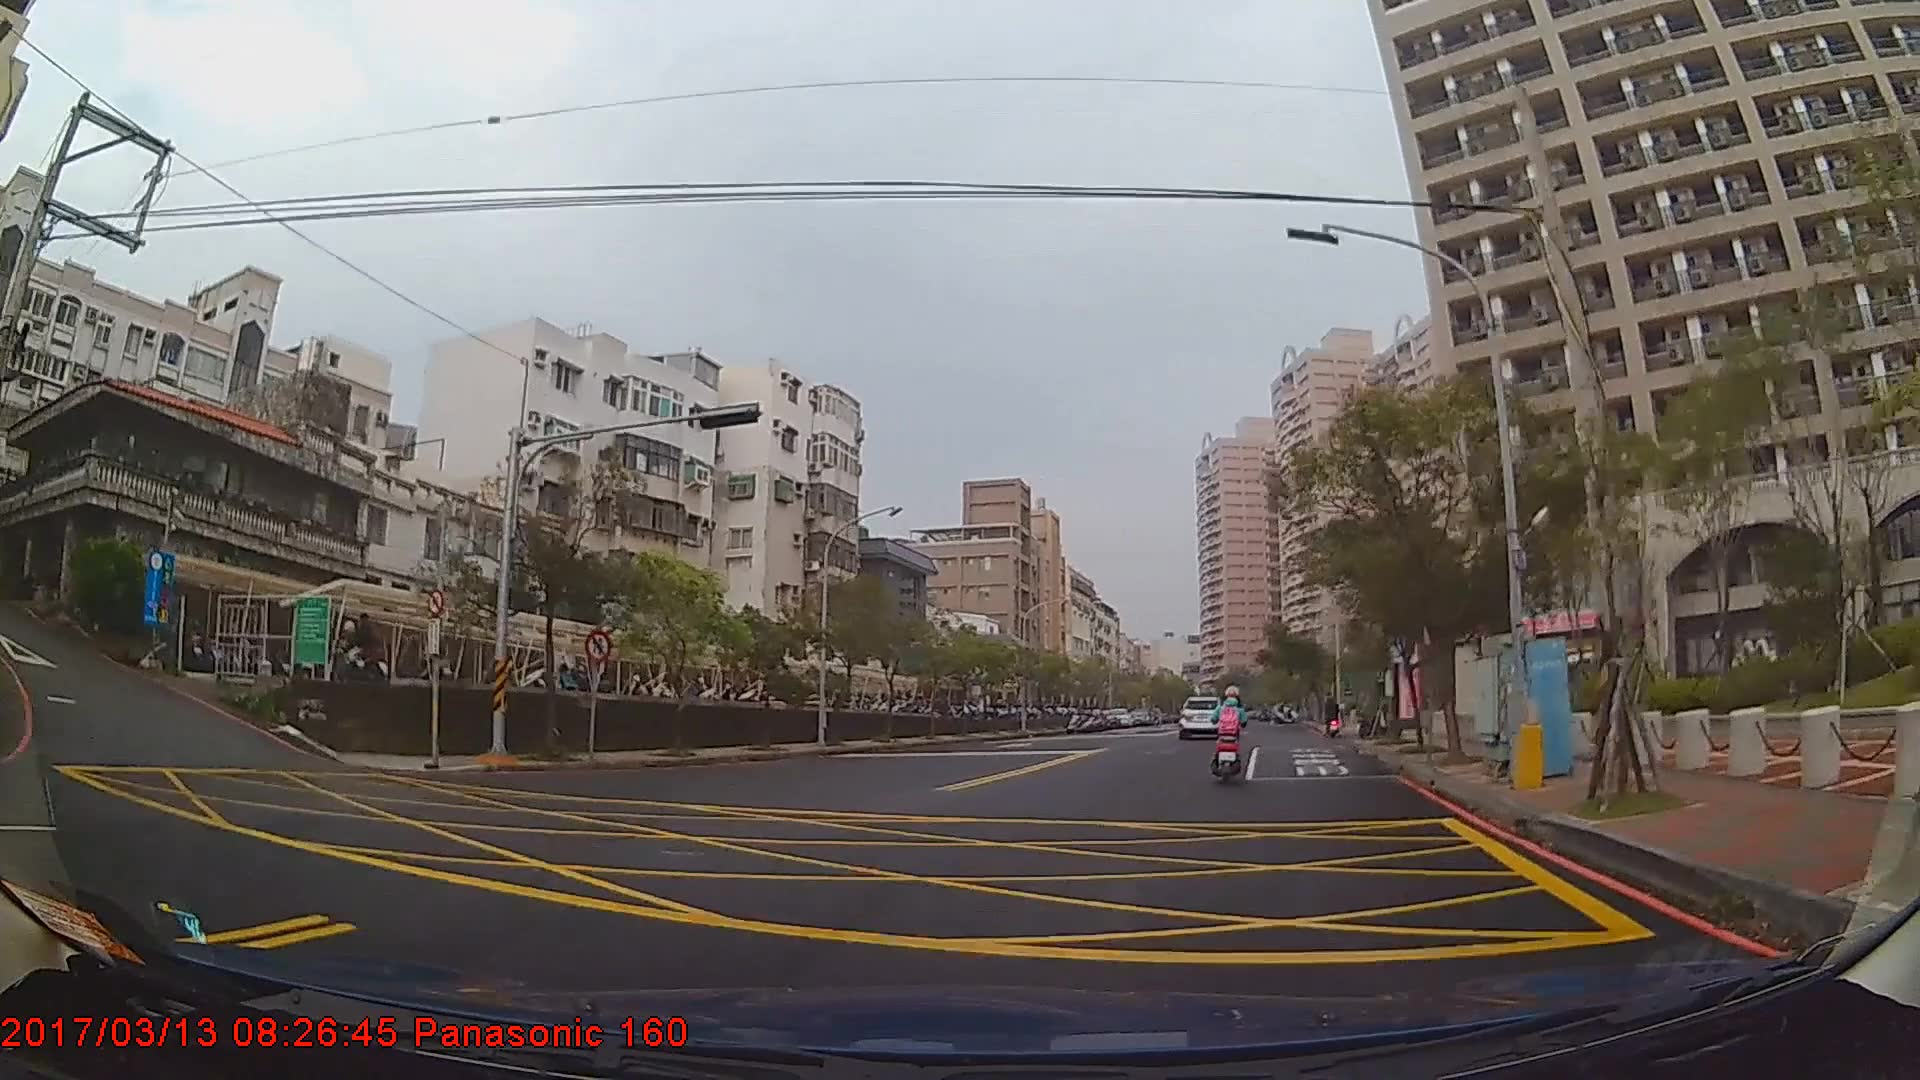rider: (1208, 682, 1254, 783)
vehicle: (1177, 692, 1222, 737)
